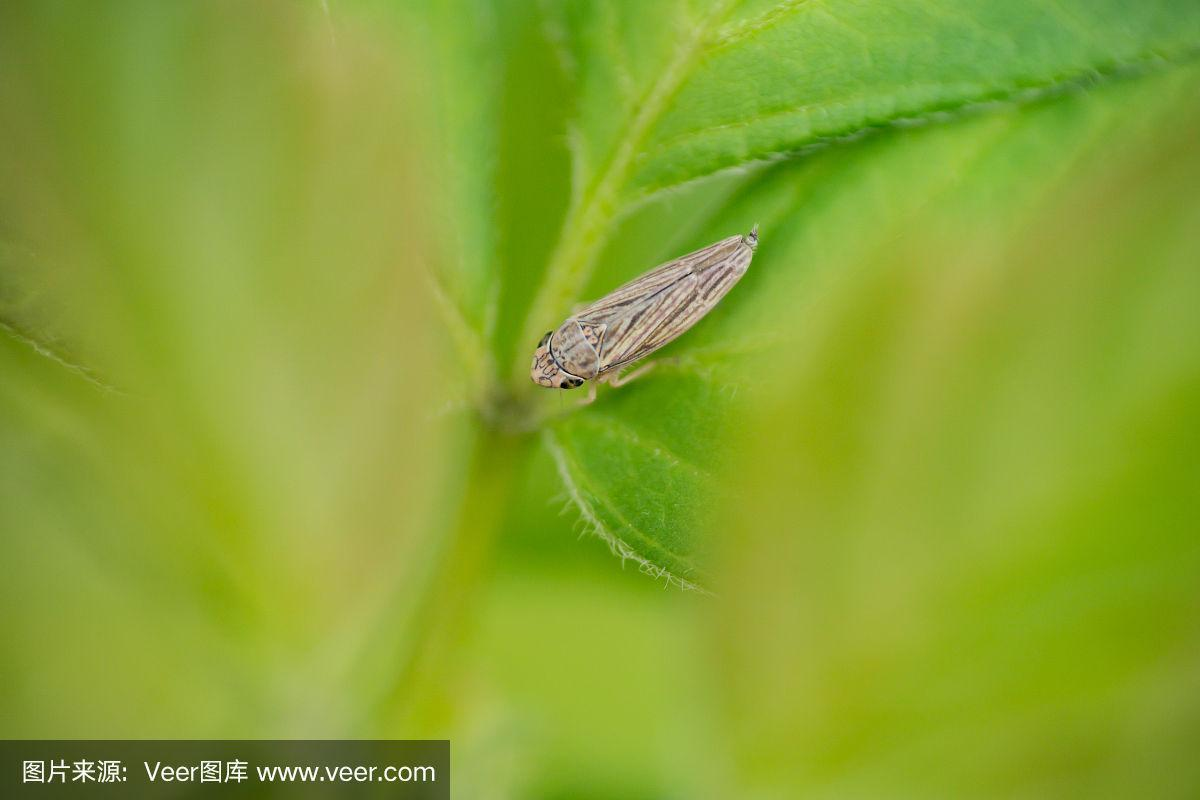Cicadellidae: (528, 231, 758, 390)
